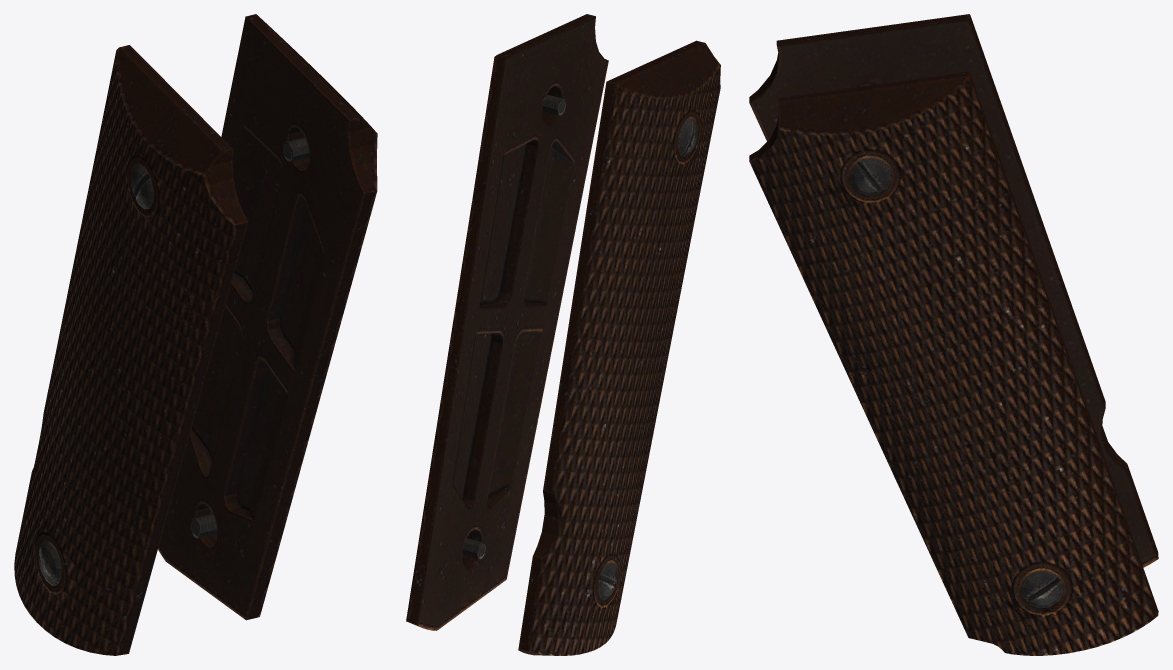
3 views of the same model, side by side, from view 1: azimuth 30°, elevation 25°; view 2: azimuth 150°, elevation 25°; view 3: azimuth 270°, elevation 25° (orthographic). The views are drawn at different scales.
Parts seen in each view (by area): view 1: TW_5e81c6bf763d9f754677beff_PZ_Import; view 2: TW_5e81c6bf763d9f754677beff_PZ_Import; view 3: TW_5e81c6bf763d9f754677beff_PZ_Import.
Part boxes in pixels (x1=…): TW_5e81c6bf763d9f754677beff_PZ_Import: x1=14, y1=14, x2=377, y2=655; TW_5e81c6bf763d9f754677beff_PZ_Import: x1=406, y1=14, x2=720, y2=655; TW_5e81c6bf763d9f754677beff_PZ_Import: x1=749, y1=14, x2=1158, y2=655.
Size of the model in its own units: 0.0201 by 0.037 by 0.0574.
Materials: 1 (1 with a texture image).
